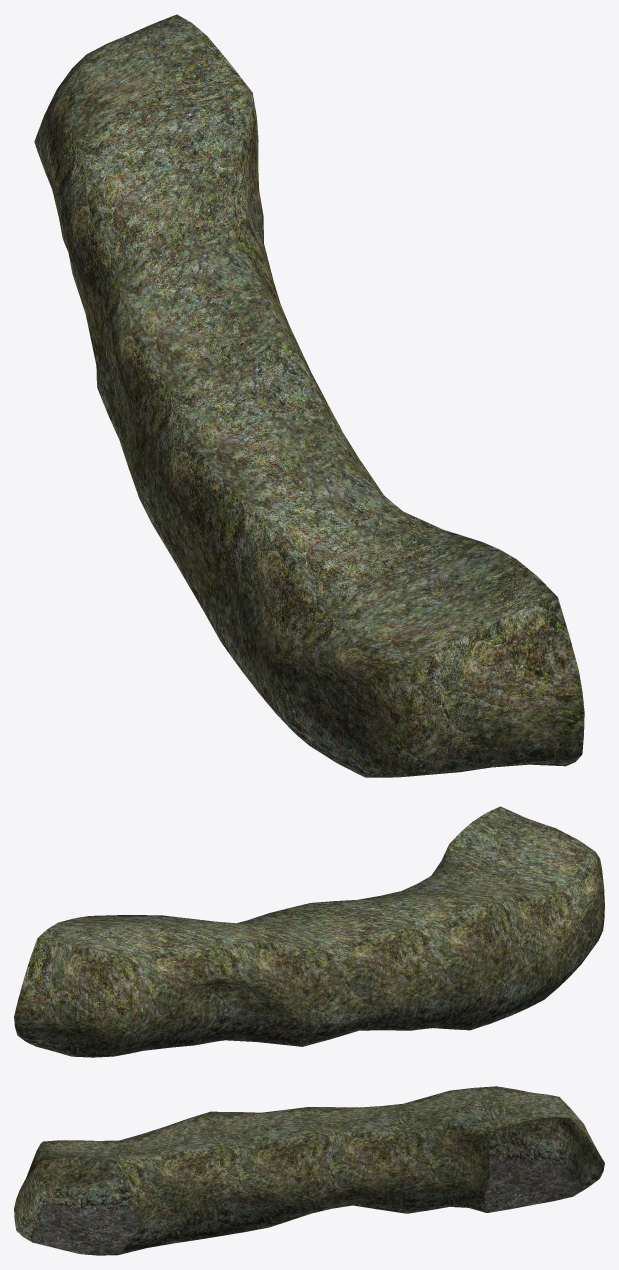
File: thm_all_cave_flatland_s02_damprock_r6_mesh_r6.fbx
The picture shows the model from 3 angles, top to bottom: view 1: azimuth 30°, elevation 25°; view 2: azimuth 150°, elevation 25°; view 3: azimuth 270°, elevation 25°; orthographic projection. The views are drawn at different scales.
Parts seen in each view (by area): view 1: mesh_node; view 2: mesh_node; view 3: mesh_node.
Boxes of the visible parts, x1=… form: mesh_node: x1=34, y1=14, x2=584, y2=777; mesh_node: x1=14, y1=806, x2=604, y2=1057; mesh_node: x1=14, y1=1086, x2=604, y2=1255.
Size of the model in its own units: 21.61 by 21.57 by 65.39.
